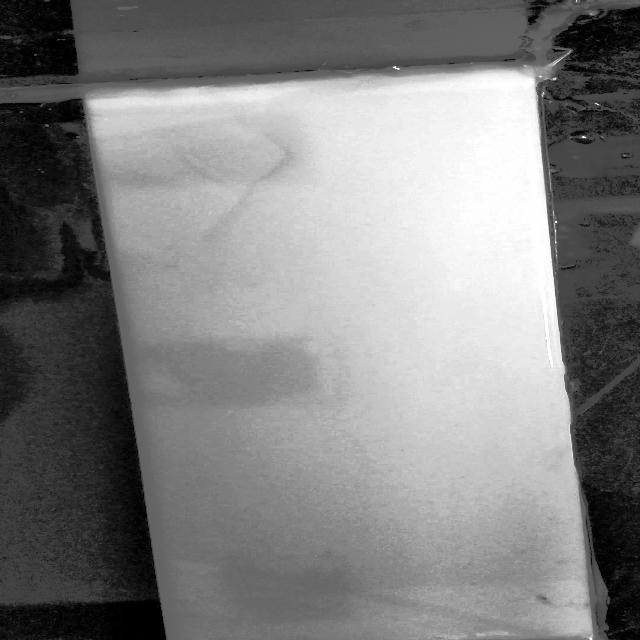shrimp: (528, 590, 566, 610)
